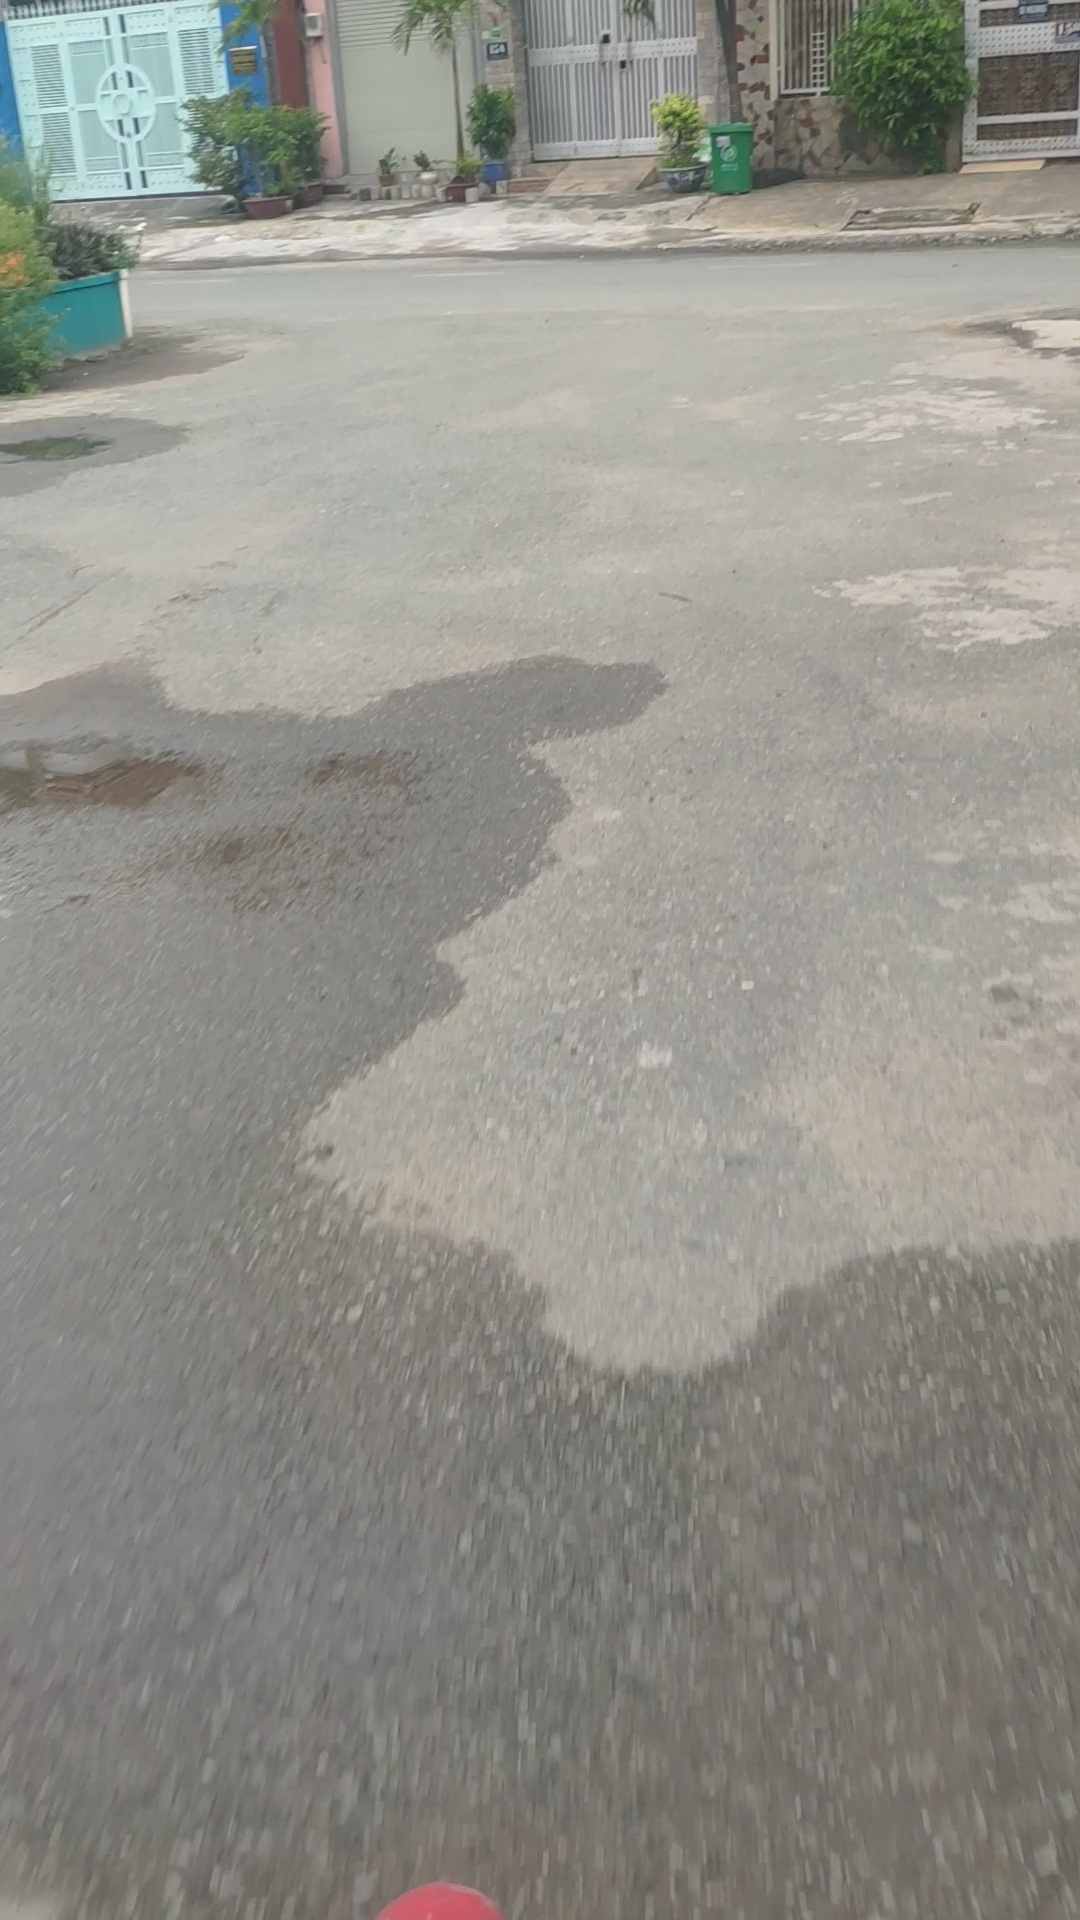hole: (1, 713, 220, 841), (1, 426, 125, 473)
